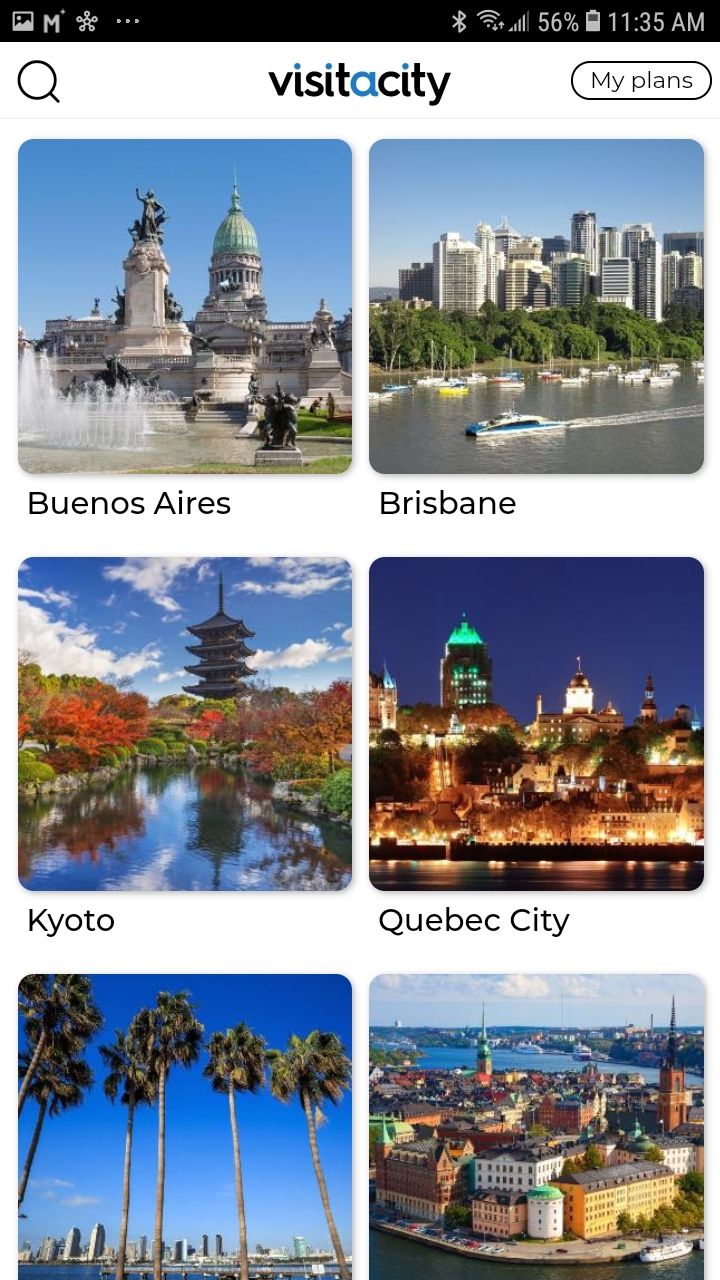Icon: (18, 60, 62, 105)
Image: (368, 139, 704, 475), (18, 139, 353, 475), (369, 557, 704, 892), (18, 556, 353, 891), (370, 974, 704, 1280), (19, 974, 353, 1280), (268, 63, 452, 107)
Text: (379, 906, 570, 938), (30, 489, 232, 515), (381, 489, 517, 515), (29, 908, 116, 938)
TextButton: (571, 62, 713, 102)
UpperTaskBar: (1, 1, 720, 43)
